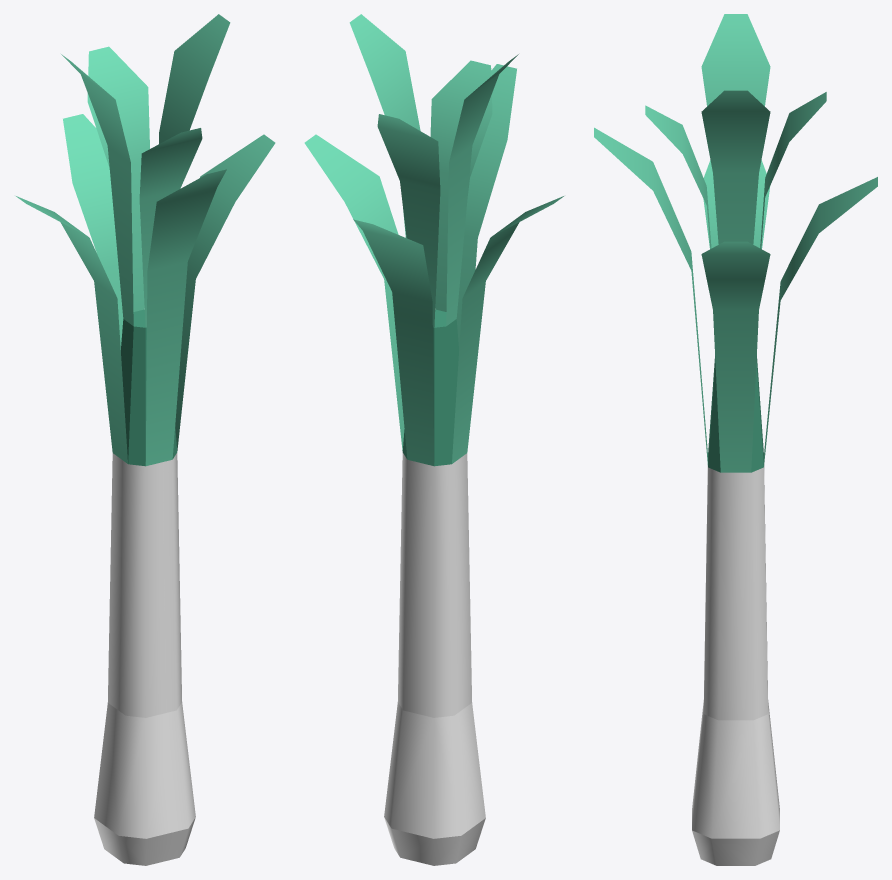
Rendered from Leek.glb.
3 views of the same model, side by side, from view 1: azimuth 30°, elevation 25°; view 2: azimuth 150°, elevation 25°; view 3: azimuth 270°, elevation 25° (orthographic).
Parts seen in each view (by area): view 1: leek; view 2: leek; view 3: leek.
Part boxes in pixels (x1,y1,x2,y2): leek: (16, 14, 275, 865); leek: (304, 14, 563, 865); leek: (594, 14, 877, 865).
Size of the model in its own units: 0.2729 by 0.8474 by 0.2729.
